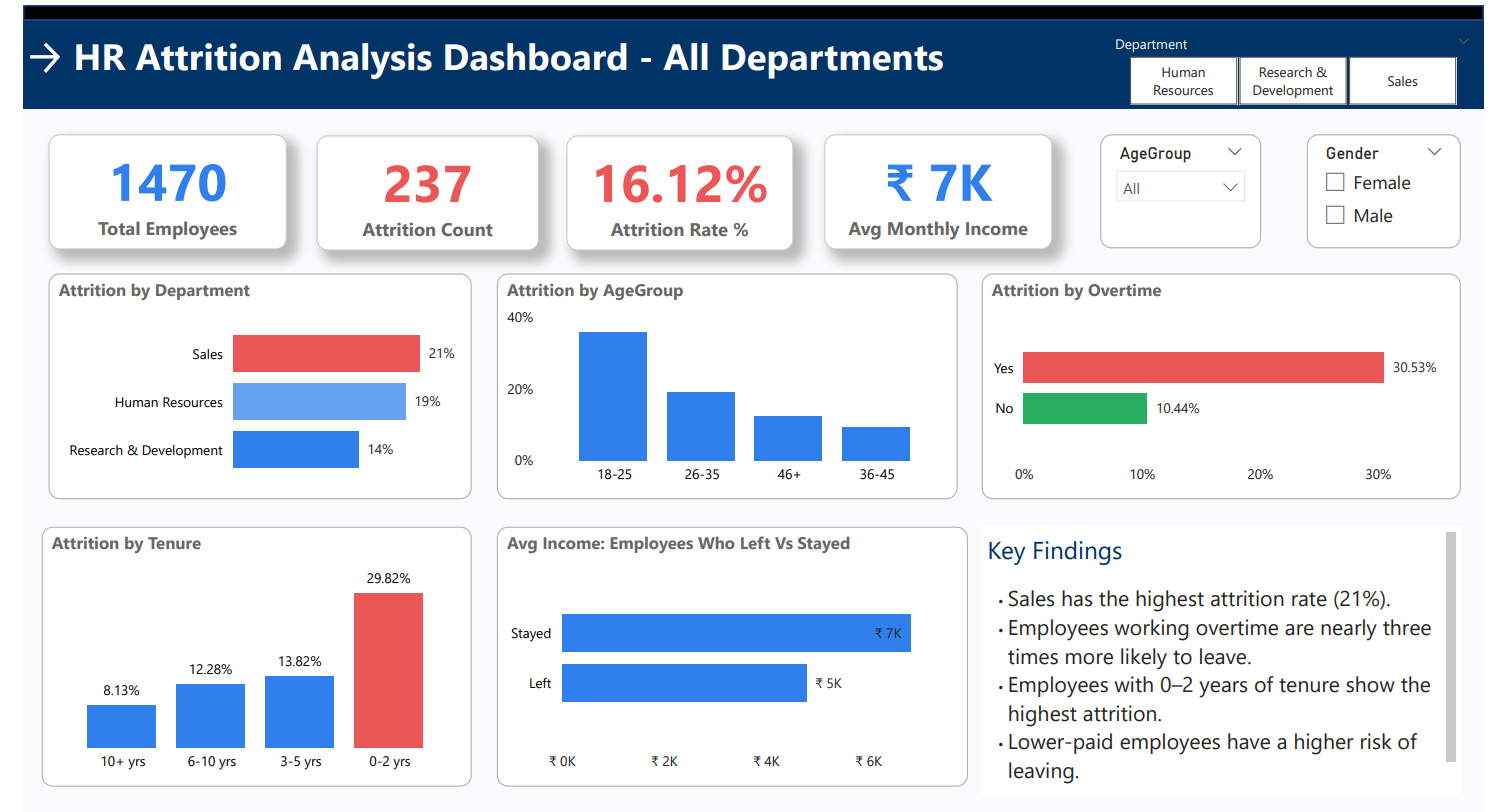

This screenshot's page, from the dashboard's own definition file:
{"tool":"powerbi","page":{"name":"HR Attrition Analysis Dashboard","canvas":[1280,720],"ordinal":0},"visuals":[{"type":"card","fields":{"Values":["HR_attrition.Total Employees"]},"box":[22,112.5,209.1,101.5],"z":0},{"type":"card","fields":{"Values":["HR_attrition.Attrition Rate %"]},"box":[475.7,113.7,199.3,101.5],"z":1000},{"type":"card","fields":{"Values":["HR_attrition.Attrition Count"]},"box":[256.8,113.7,195.7,101.5],"z":2000},{"type":"card","fields":{"Values":["HR_attrition.Avg Monthly Income"]},"box":[701.9,112.5,200.5,101.5],"z":3000},{"type":"clusteredBarChart","title":"Attrition by Department","fields":{"Category":["HR_attrition.Department"],"Y":["HR_attrition.Attrition Rate %"]},"box":[22,234.8,370.5,198.1],"z":4000},{"type":"clusteredBarChart","title":"Attrition by Overtime","fields":{"Category":["HR_attrition.OverTime"],"Y":["HR_attrition.Attrition Rate %"]},"box":[840.1,234.8,419.4,198.1],"z":5000},{"type":"shape","box":[0,0,1280.3,90.5],"z":6000},{"type":"clusteredColumnChart","title":"Attrition by AgeGroup","fields":{"Category":["HR_attrition.AgeGroup"],"Y":["HR_attrition.Attrition Rate %"]},"box":[414.5,234.8,404.8,198.1],"z":7000},{"type":"clusteredBarChart","title":"Avg Income: Employees Who Left Vs Stayed","fields":{"Y":["HR_attrition.Avg Monthly Income"],"Category":["HR_attrition.AttritionLable"]},"box":[414.5,457.3,413.3,227.4],"z":8000},{"type":"shape","box":[0,0,1280.3,13.5],"z":9000},{"type":"clusteredColumnChart","title":"Attrition by Tenure","fields":{"Category":["HR_attrition.TenureBucket"],"Y":["HR_attrition.Attrition Rate %"]},"box":[15.9,457.3,376.6,227.4],"z":10000},{"type":"slicer","fields":{"Values":["DimDepartment.Department"]},"box":[944,19.6,336.3,70.9],"z":11000},{"type":"slicer","fields":{"Values":["HR_attrition.Gender"]},"box":[1125,112.5,134.5,100.3],"z":12000},{"type":"slicer","fields":{"Values":["DimAgeGroup.AgeGroup"]},"box":[944,112.5,140.6,100.3],"z":13000},{"type":"textbox","box":[840.1,457.3,419.4,236],"z":14000},{"type":"card","fields":{"Values":["DimDepartment.Dashbord Title"]},"box":[15.9,6.1,819.3,78.3],"z":15000},{"type":"actionButton","box":[0,28.1,45.2,35.5],"z":16000}]}

Visuals, with their boxes on the page's 1280x720 design canvas (x1, y1, x2, y2). These are canvas units, not pixel positions in the 1490x812 screenshot, which may show the page scaled, cropped or inside an application window:
card - HR_attrition.Total Employees: select_region(22, 112, 231, 214)
card - HR_attrition.Attrition Rate %: select_region(476, 114, 675, 215)
card - HR_attrition.Attrition Count: select_region(257, 114, 452, 215)
card - HR_attrition.Avg Monthly Income: select_region(702, 112, 902, 214)
"Attrition by Department" clusteredBarChart: select_region(22, 235, 392, 433)
"Attrition by Overtime" clusteredBarChart: select_region(840, 235, 1260, 433)
shape: select_region(0, 0, 1280, 90)
"Attrition by AgeGroup" clusteredColumnChart: select_region(414, 235, 819, 433)
"Avg Income: Employees Who Left Vs Stayed" clusteredBarChart: select_region(414, 457, 828, 685)
shape: select_region(0, 0, 1280, 14)
"Attrition by Tenure" clusteredColumnChart: select_region(16, 457, 392, 685)
slicer - DimDepartment.Department: select_region(944, 20, 1280, 90)
slicer - HR_attrition.Gender: select_region(1125, 112, 1260, 213)
slicer - DimAgeGroup.AgeGroup: select_region(944, 112, 1085, 213)
textbox: select_region(840, 457, 1260, 693)
card - DimDepartment.Dashbord Title: select_region(16, 6, 835, 84)
actionButton: select_region(0, 28, 45, 64)
